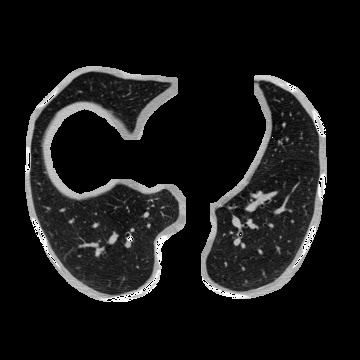PN: (127, 236, 133, 242)
